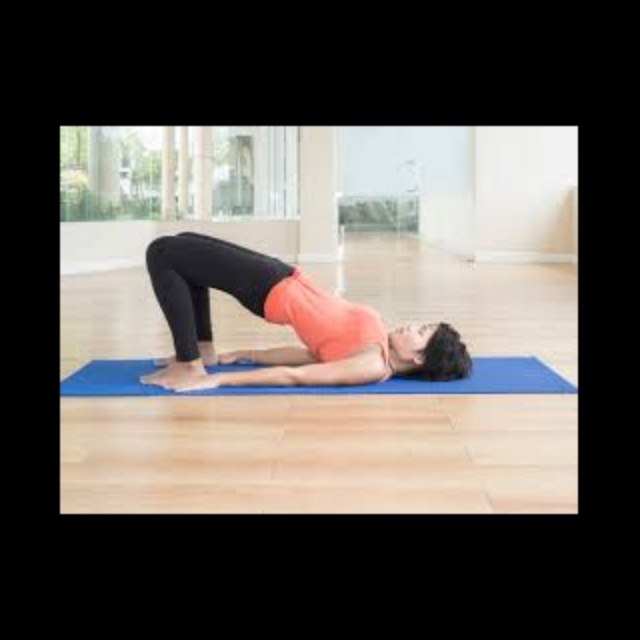Bridge_Pose: (129, 220, 479, 393)
